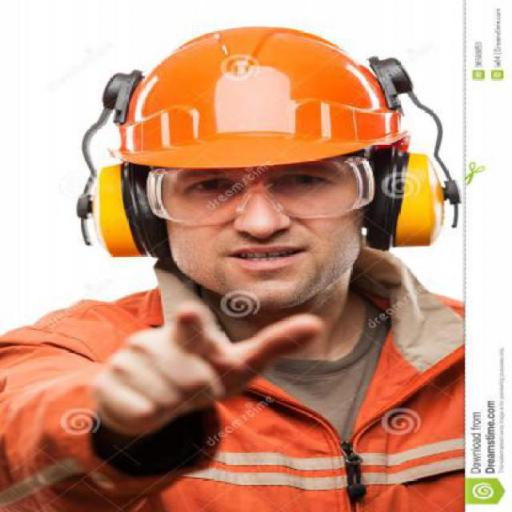glass: (128, 157, 384, 234)
person: (10, 20, 466, 506)
